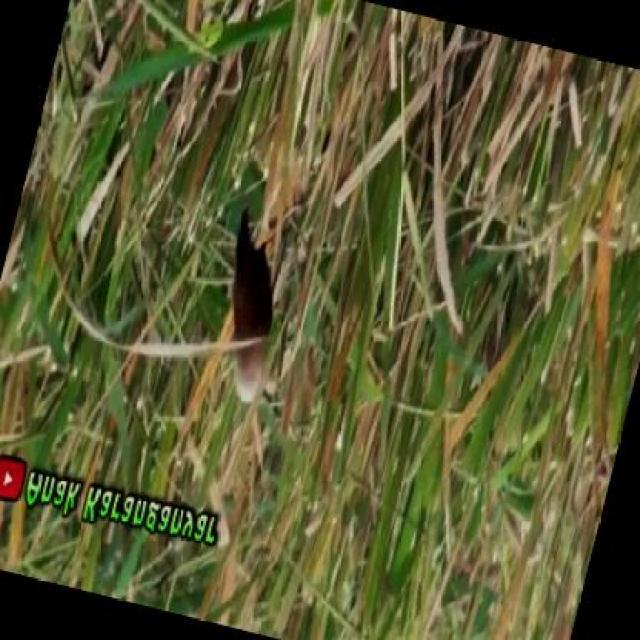Bird: (221, 204, 279, 411)
